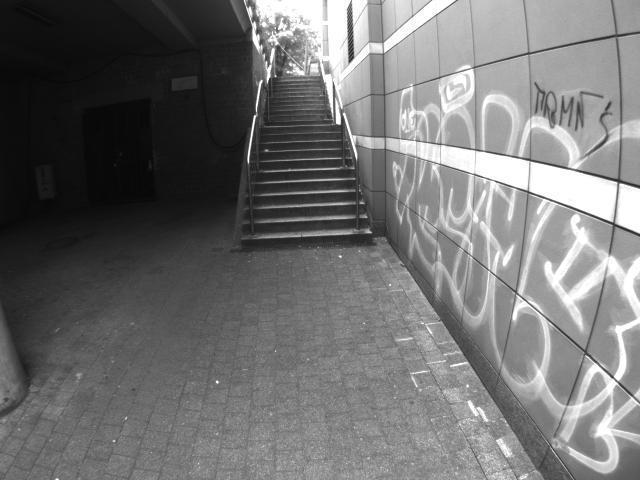Escaleras: (236, 123, 371, 245), (257, 72, 334, 121)
